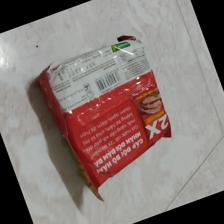3mien: (35, 34, 171, 201)
